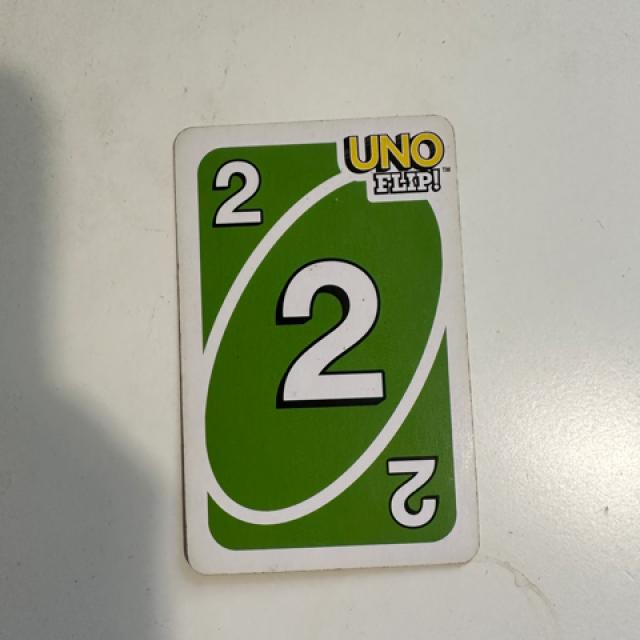lgreen-2: (191, 142, 292, 242)
